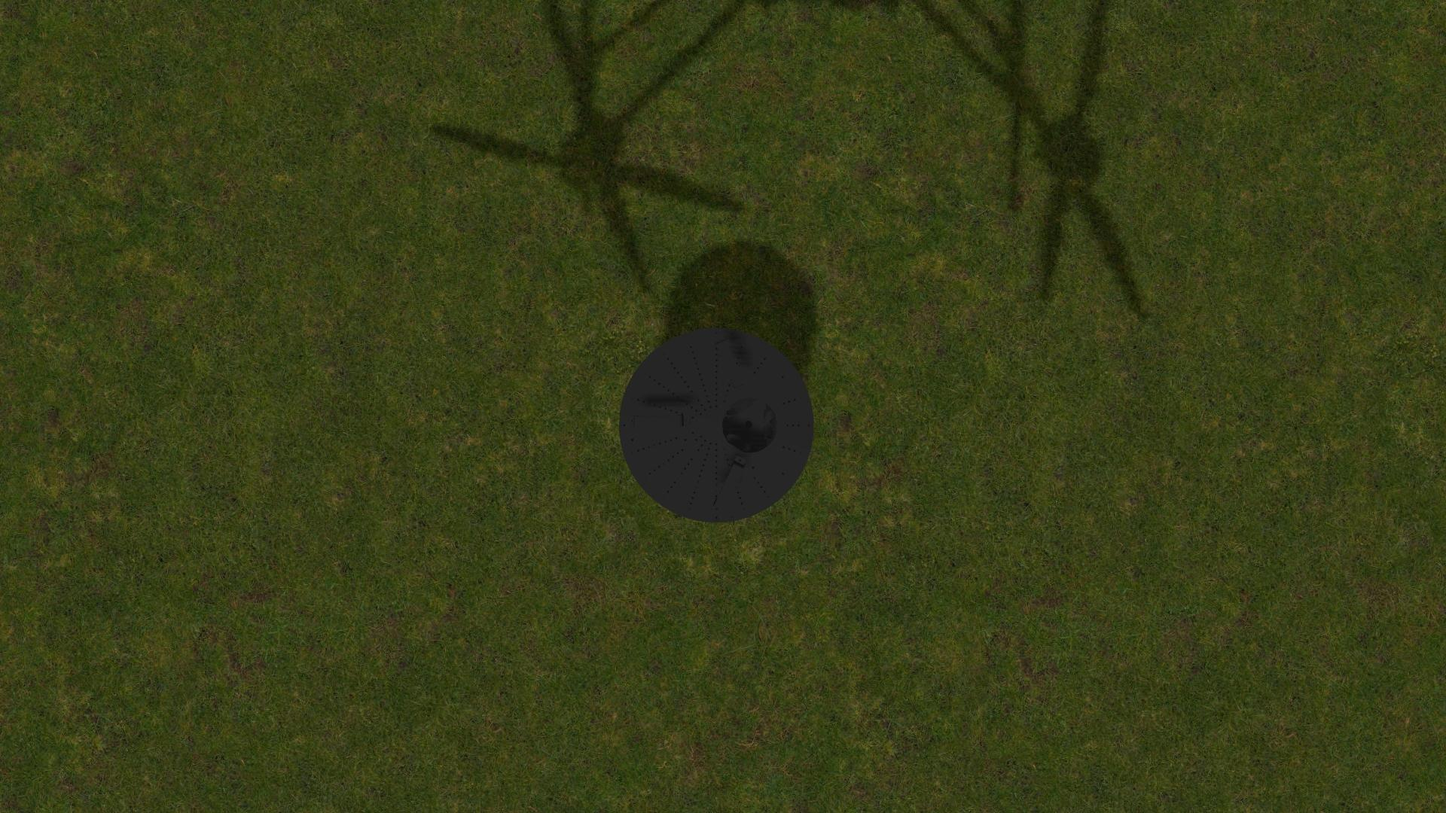alca: (711, 454, 747, 514), (713, 335, 746, 394), (629, 414, 691, 428)
armadilha: (619, 327, 814, 523)
